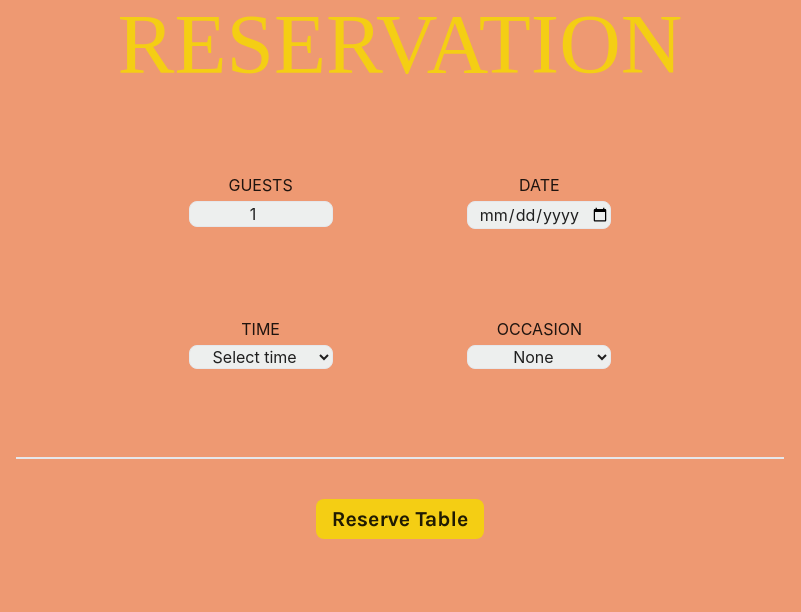
BookingForm Component › displays validation errors for empty fields when form is submitted
Click the button "Reserve Table". click: (400, 519)
box: [316,499,484,539]
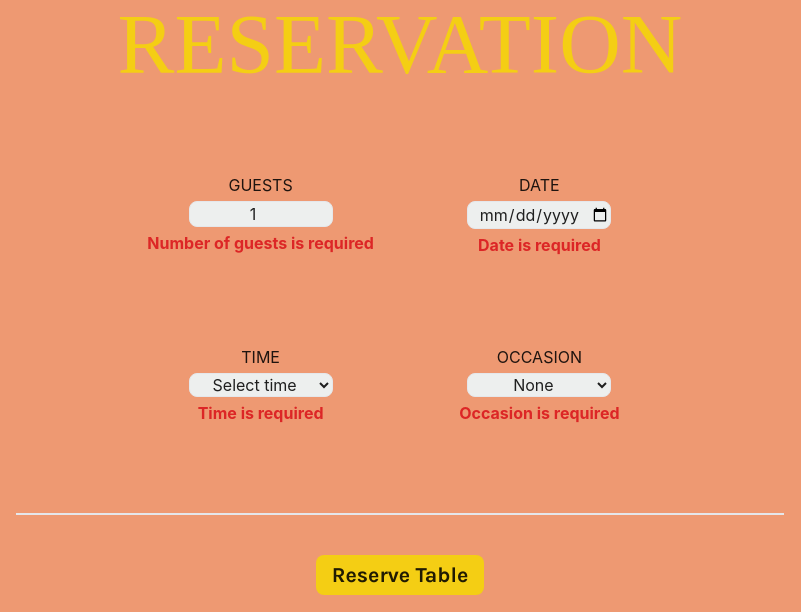
Result: the text "Date is required" is shown at [478,233,601,257]
Result: the text "Time is required" is shown at [198,401,324,425]
Result: the text "Number of guests is required" is shown at [147,231,374,255]
